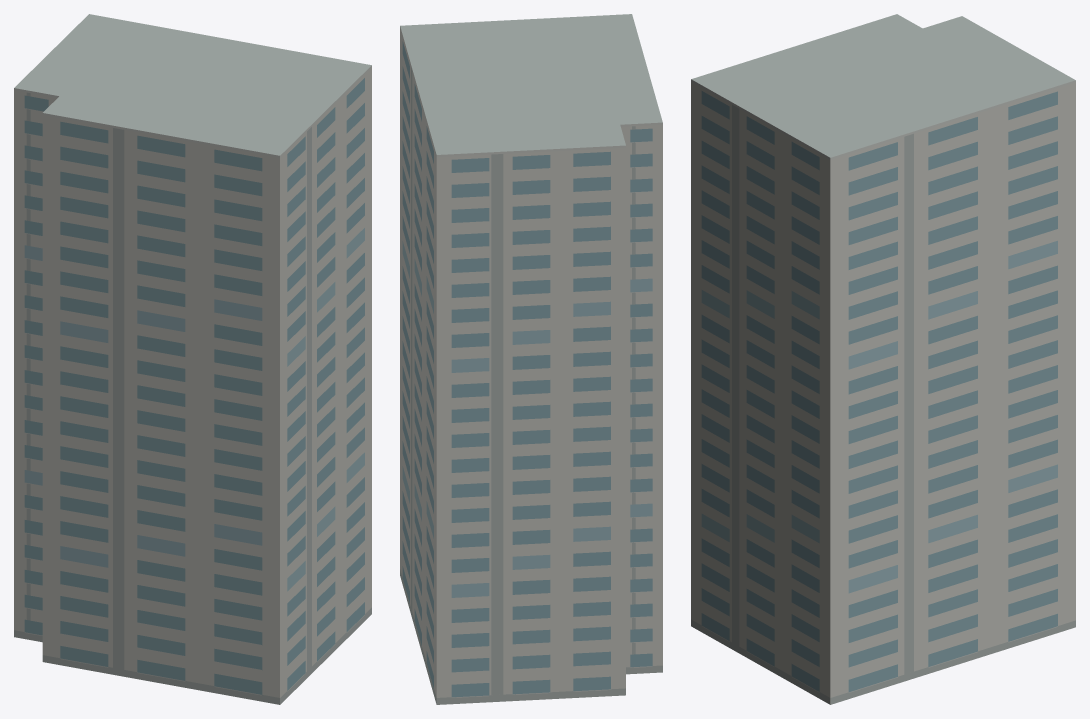
File: residential-e1bad115-69cf-47f2-aa90-635f45972f44.glb
3 renders of one model, left to right at view 1: azimuth 30°, elevation 25°; view 2: azimuth 150°, elevation 25°; view 3: azimuth 270°, elevation 25°, orthographic.
Parts seen in each view (by area): view 1: residential-e1bad115-69cf-47f2-aa90-635f45972f44.tmp; view 2: residential-e1bad115-69cf-47f2-aa90-635f45972f44.tmp; view 3: residential-e1bad115-69cf-47f2-aa90-635f45972f44.tmp.
Part boxes in pixels (bbox=[...]): residential-e1bad115-69cf-47f2-aa90-635f45972f44.tmp: bbox=[14, 14, 371, 704]; residential-e1bad115-69cf-47f2-aa90-635f45972f44.tmp: bbox=[400, 14, 662, 704]; residential-e1bad115-69cf-47f2-aa90-635f45972f44.tmp: bbox=[691, 14, 1075, 704].
Bounding box in the file's own units: 33.84 × 60 × 38.25.
